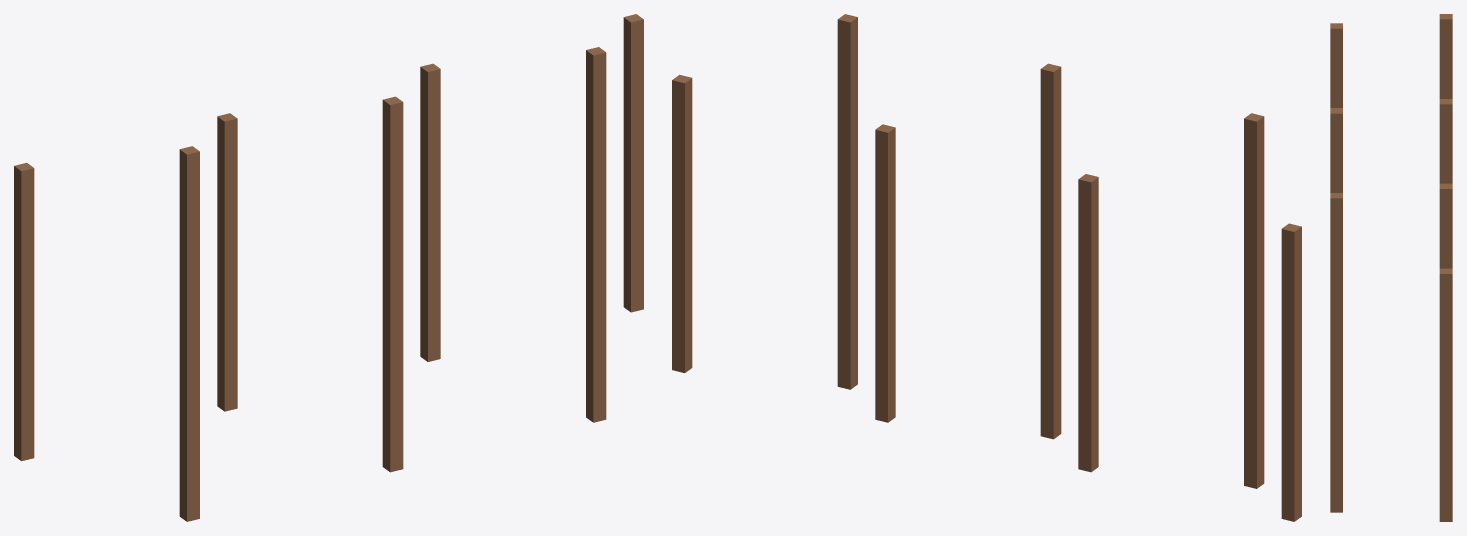
Rendered from foundry.glb.
The picture shows the model from 3 angles, left to right: view 1: azimuth 30°, elevation 25°; view 2: azimuth 150°, elevation 25°; view 3: azimuth 270°, elevation 25°; orthographic projection. The views are drawn at different scales.
Parts seen in each view (by area): view 1: LOD0._color_rgb_150_108_77_emissive_nu; view 2: LOD0._color_rgb_150_108_77_emissive_nu; view 3: LOD0._color_rgb_150_108_77_emissive_nu.
Boxes of the visible parts, left/top/right/bottom form: LOD0._color_rgb_150_108_77_emissive_nu: left=14, top=14, right=643, bottom=521; LOD0._color_rgb_150_108_77_emissive_nu: left=672, top=14, right=1301, bottom=521; LOD0._color_rgb_150_108_77_emissive_nu: left=1330, top=14, right=1452, bottom=521.
Size of what is drawn, in the model's own units: 674 by 380 by 134.
